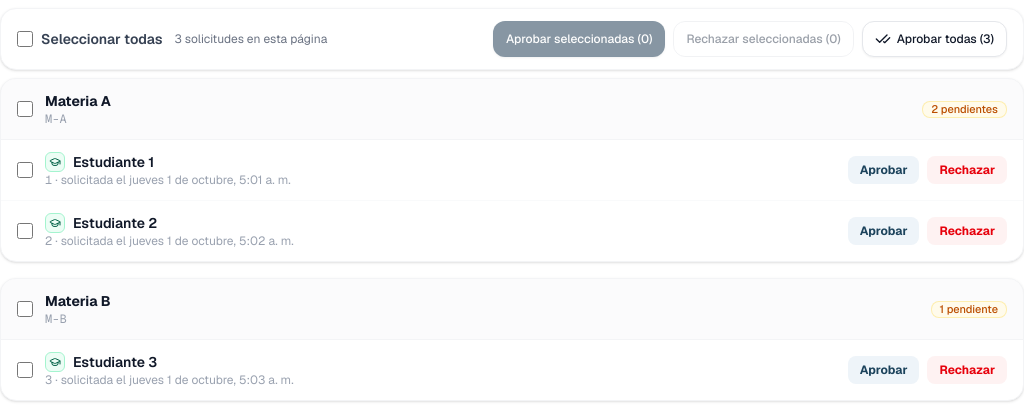
Test: EnrollmentRequestsBoard › selects every request of one group only, and marks the page checkbox as partial
The image size is (1024, 419).
Click the checkbox named "todas las solicitudes de Materia A" at (25, 109), box x1=17 y1=101 x2=33 y2=117
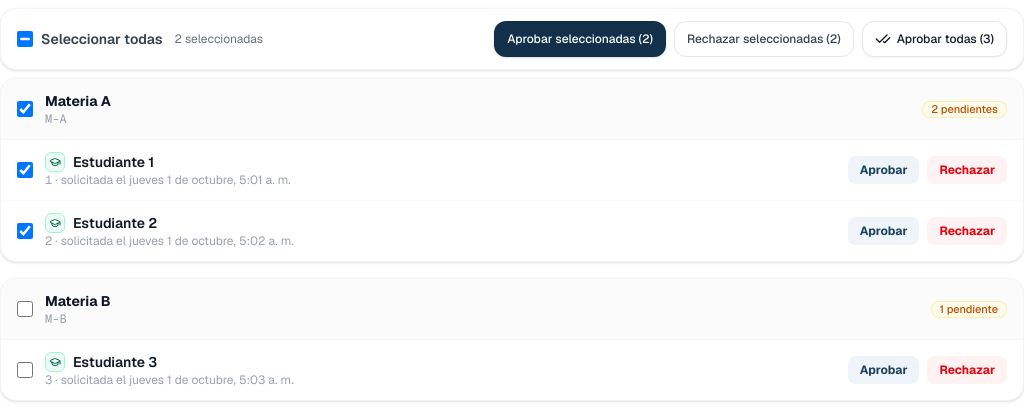
Expected: the checkbox named "solicitud de Estudiante 3" is not checked, x1=17 y1=362 x2=33 y2=378
Now the text "2 seleccionadas" is shown, box x1=174 y1=31 x2=263 y2=47
